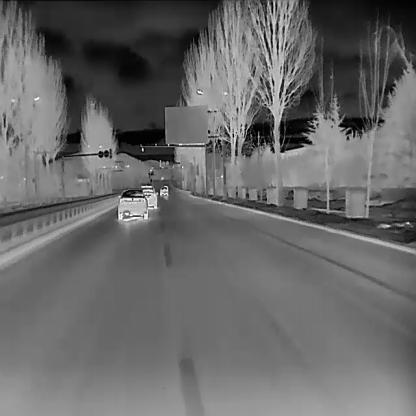car: (117, 188, 148, 219), (141, 186, 158, 209), (160, 184, 169, 196)
